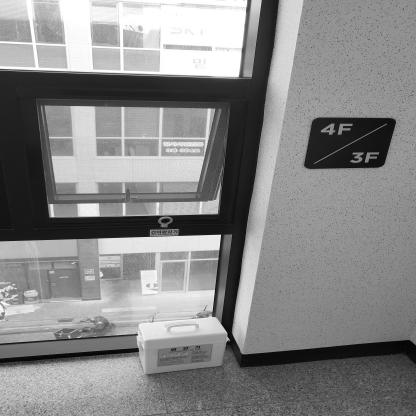DDL: (138, 316, 228, 375)
